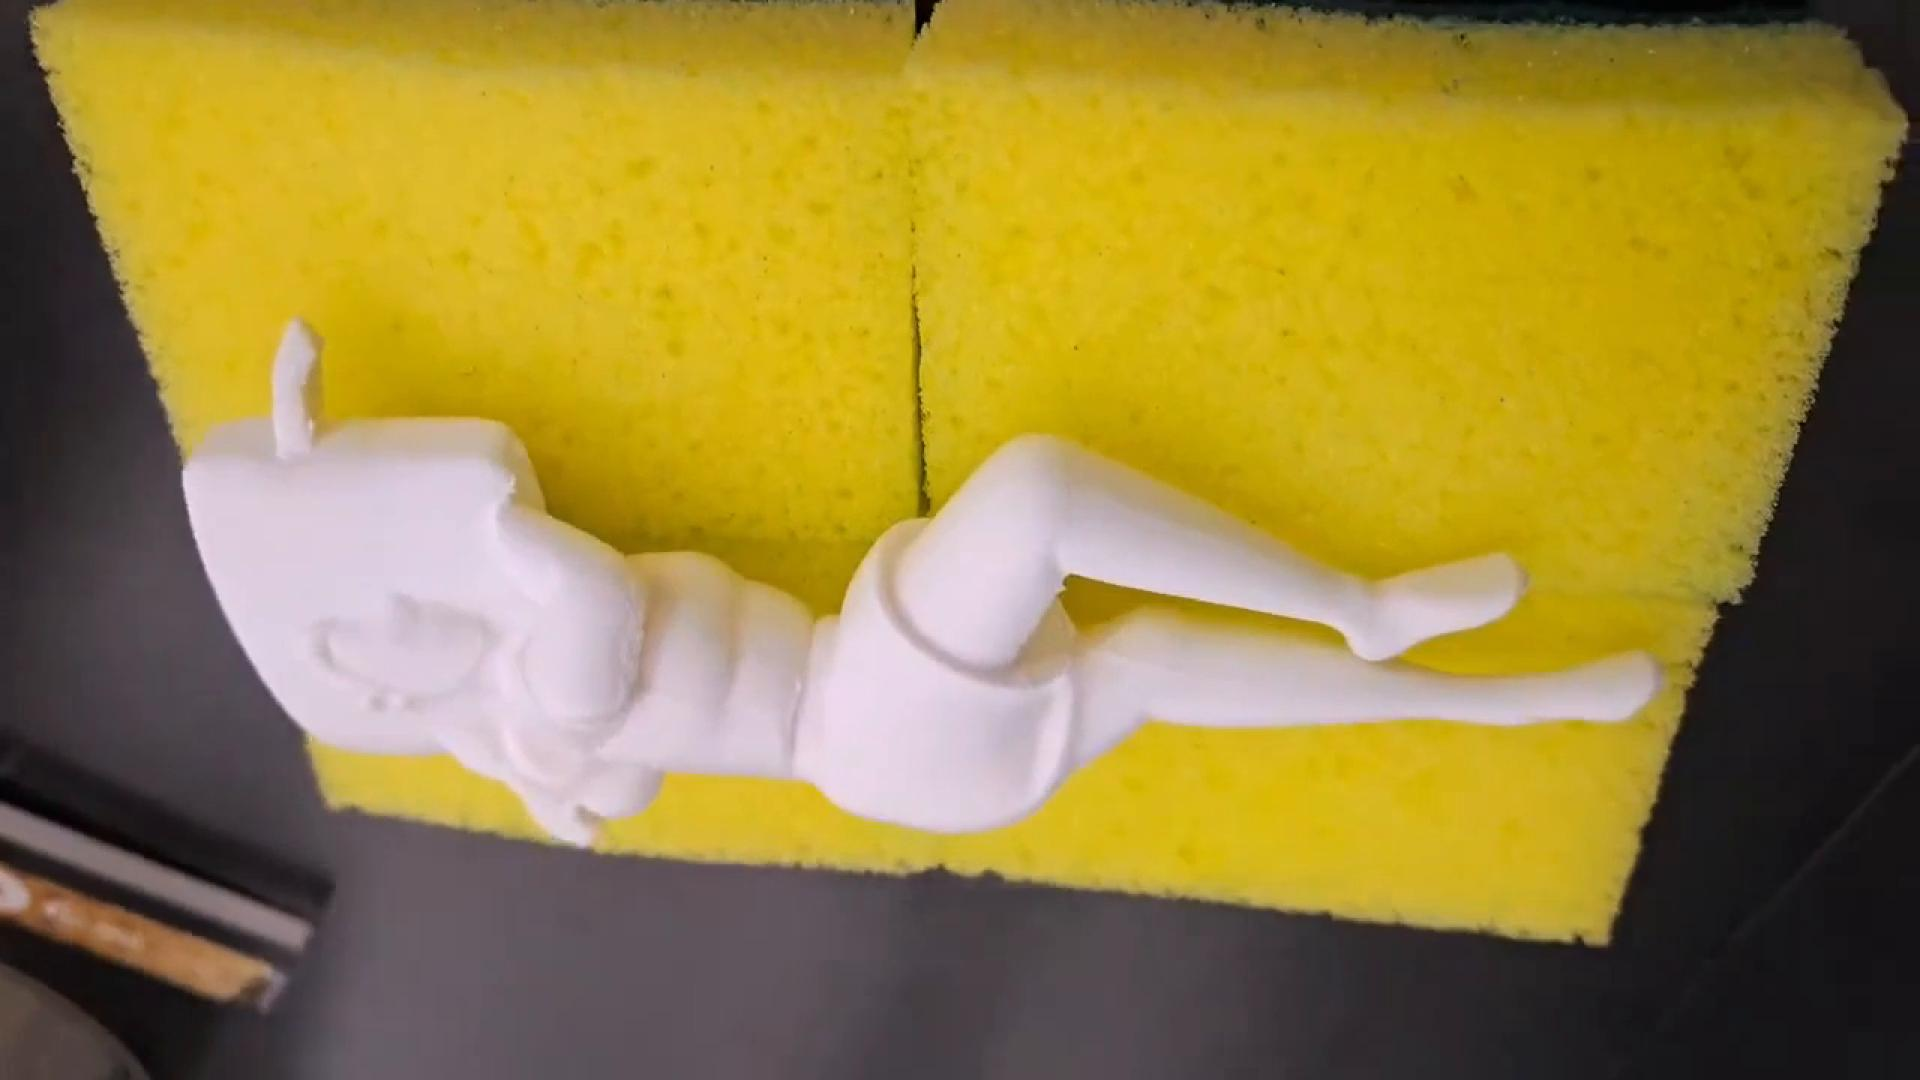Good-style: (169, 307, 1664, 849)
